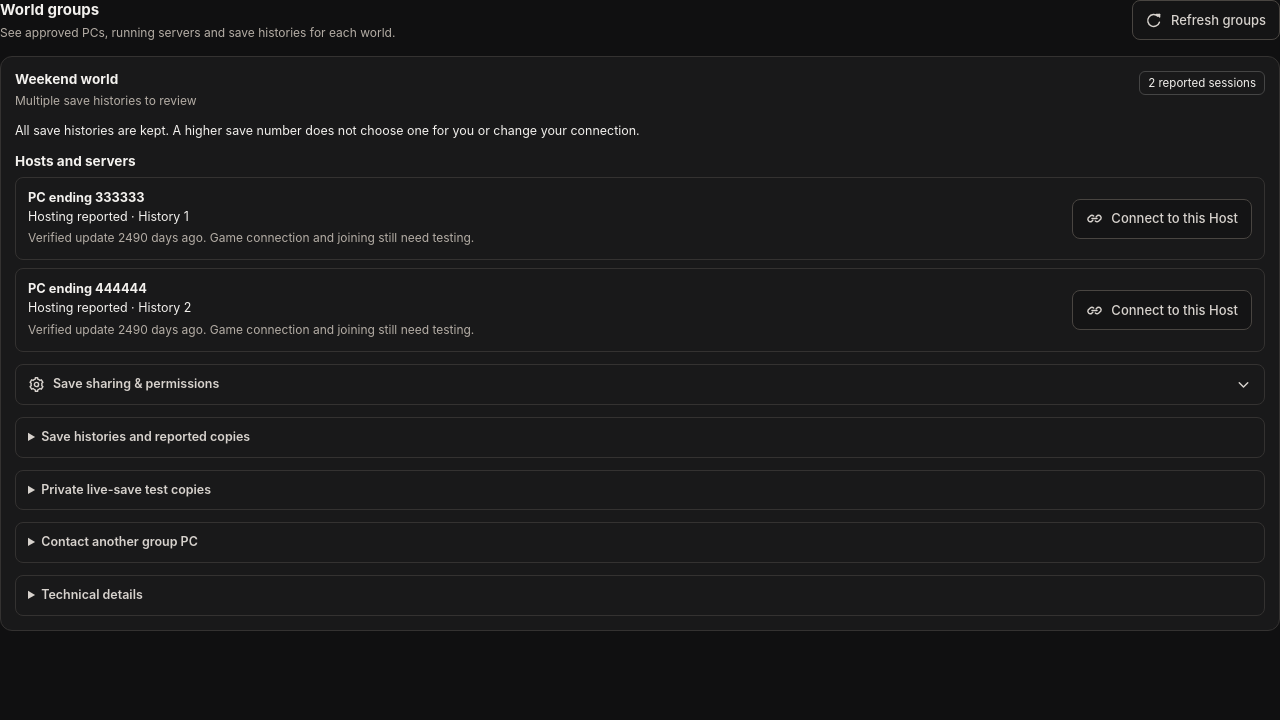
Test: World groups › allows withdrawing existing world consent after the Receive grant has been removed
Click the heading "Save sharing & permissions" at (136, 384), box x1=28 y1=375 x2=1252 y2=394
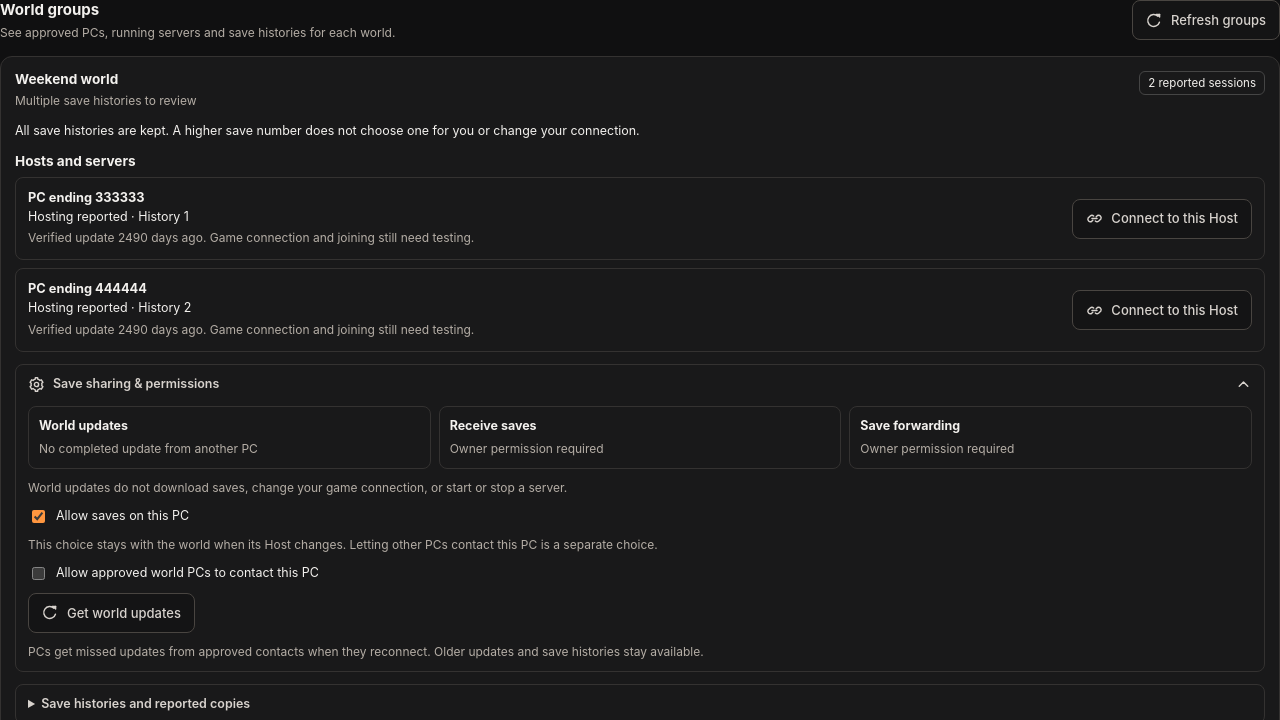
Expected: the checkbox labelled "Allow saves on this PC" is checked
Expected: the checkbox labelled "Allow saves on this PC" is enabled
Click the checkbox labelled "Allow saves on this PC" at (38, 516), box x1=32 y1=510 x2=45 y2=523
(page scrolled)
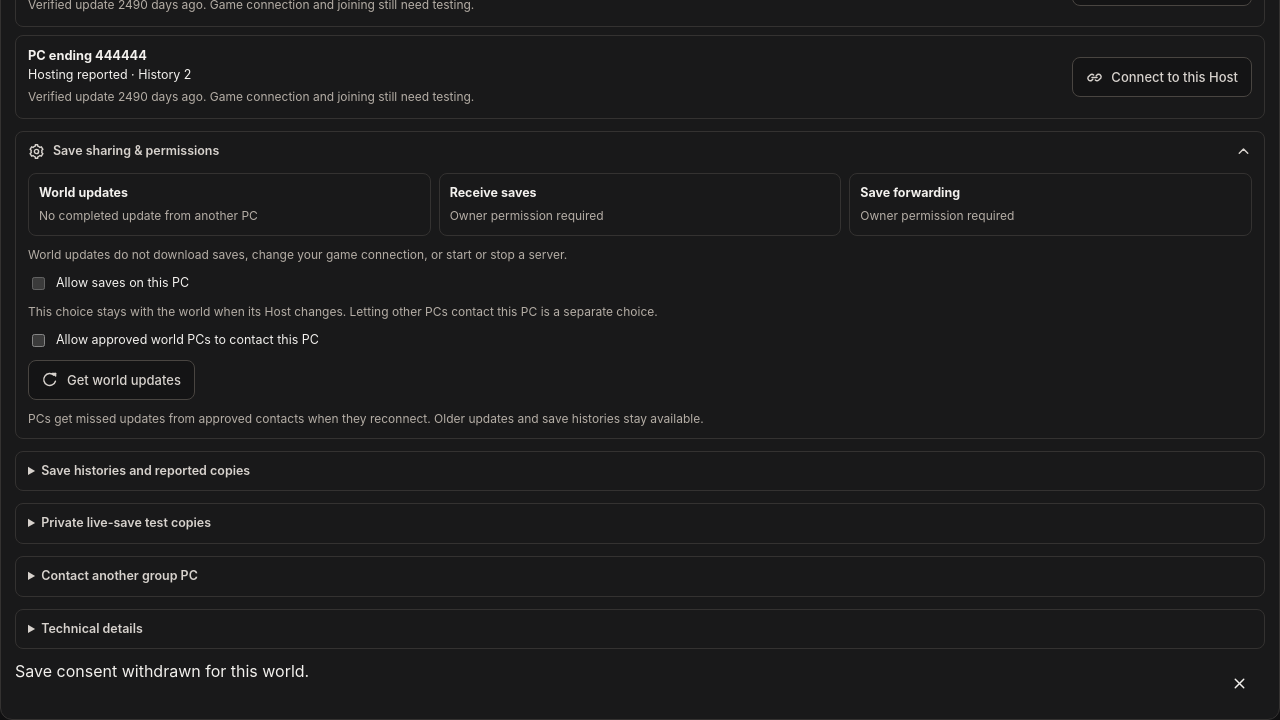
Expected: the checkbox labelled "Allow saves on this PC" is not checked, x1=32 y1=277 x2=45 y2=290
Expected: the checkbox labelled "Allow approved world PCs to contact this PC" is not checked, x1=32 y1=334 x2=45 y2=347
Expected: the checkbox labelled "Allow saves on this PC" is disabled, x1=32 y1=277 x2=45 y2=290
